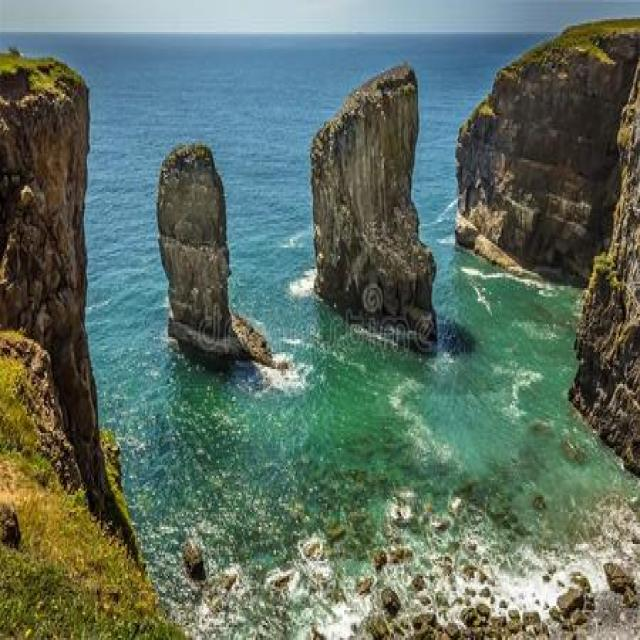reef: (300, 57, 442, 358), (145, 134, 272, 370)
